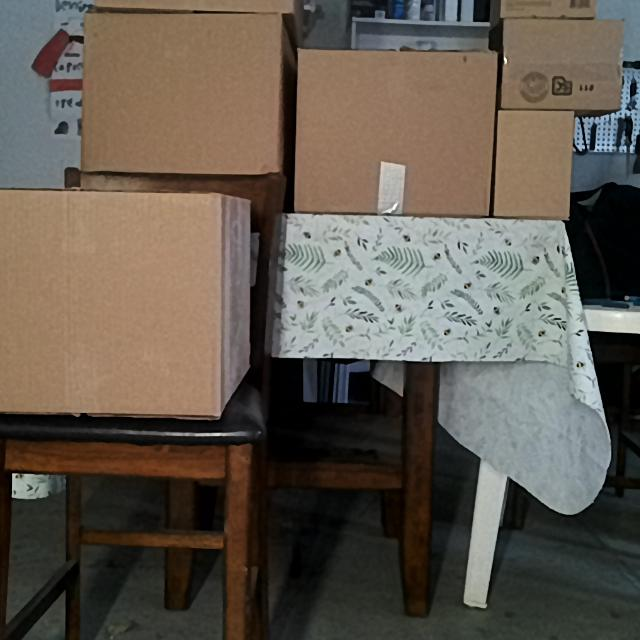box: (0, 193, 221, 414), (296, 47, 494, 214), (84, 11, 282, 175), (502, 19, 623, 111), (492, 110, 574, 220), (94, 0, 297, 13), (500, 0, 591, 17)
